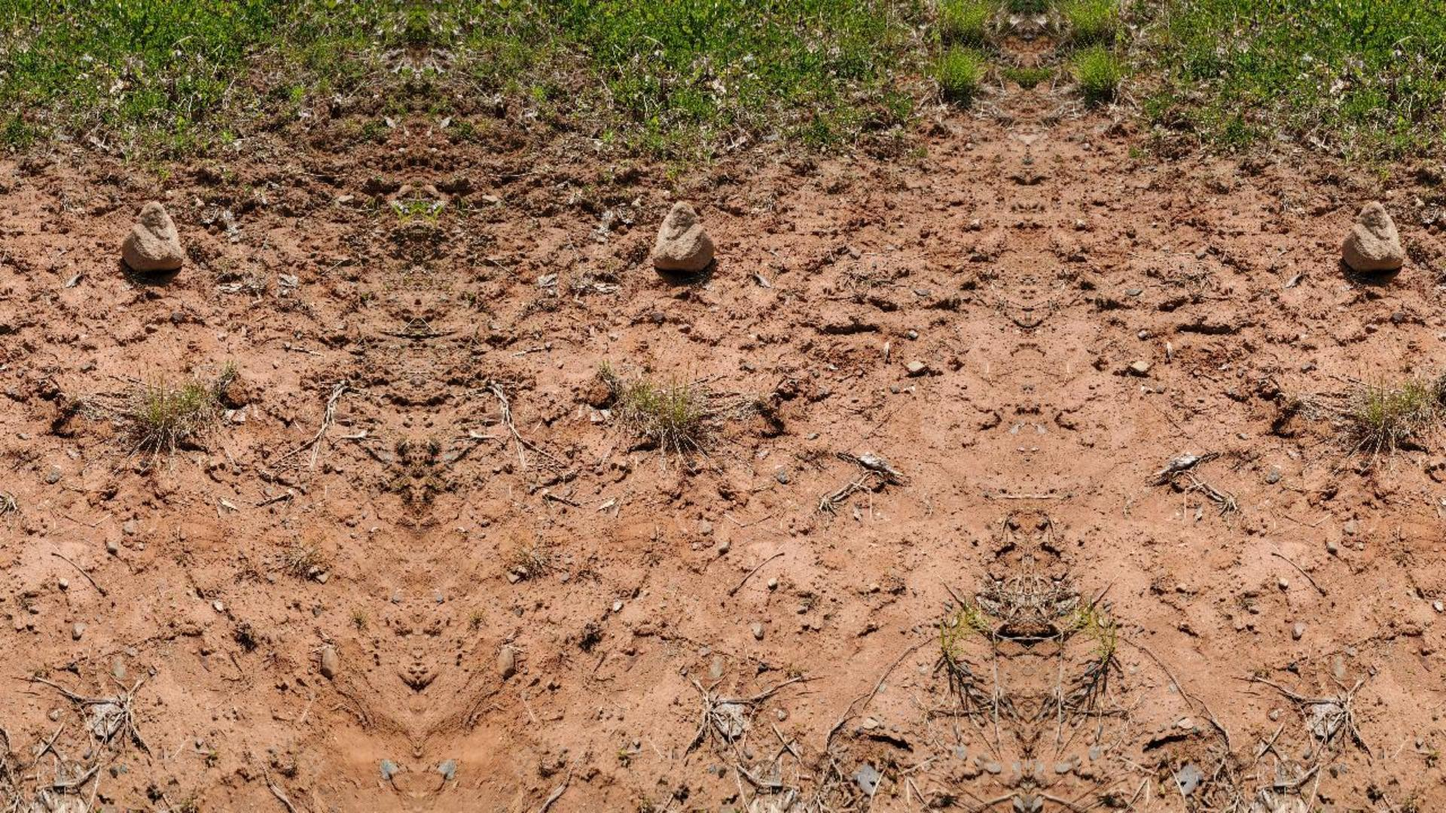rock: (121, 202, 183, 270), (652, 202, 713, 271), (1342, 202, 1402, 271)
